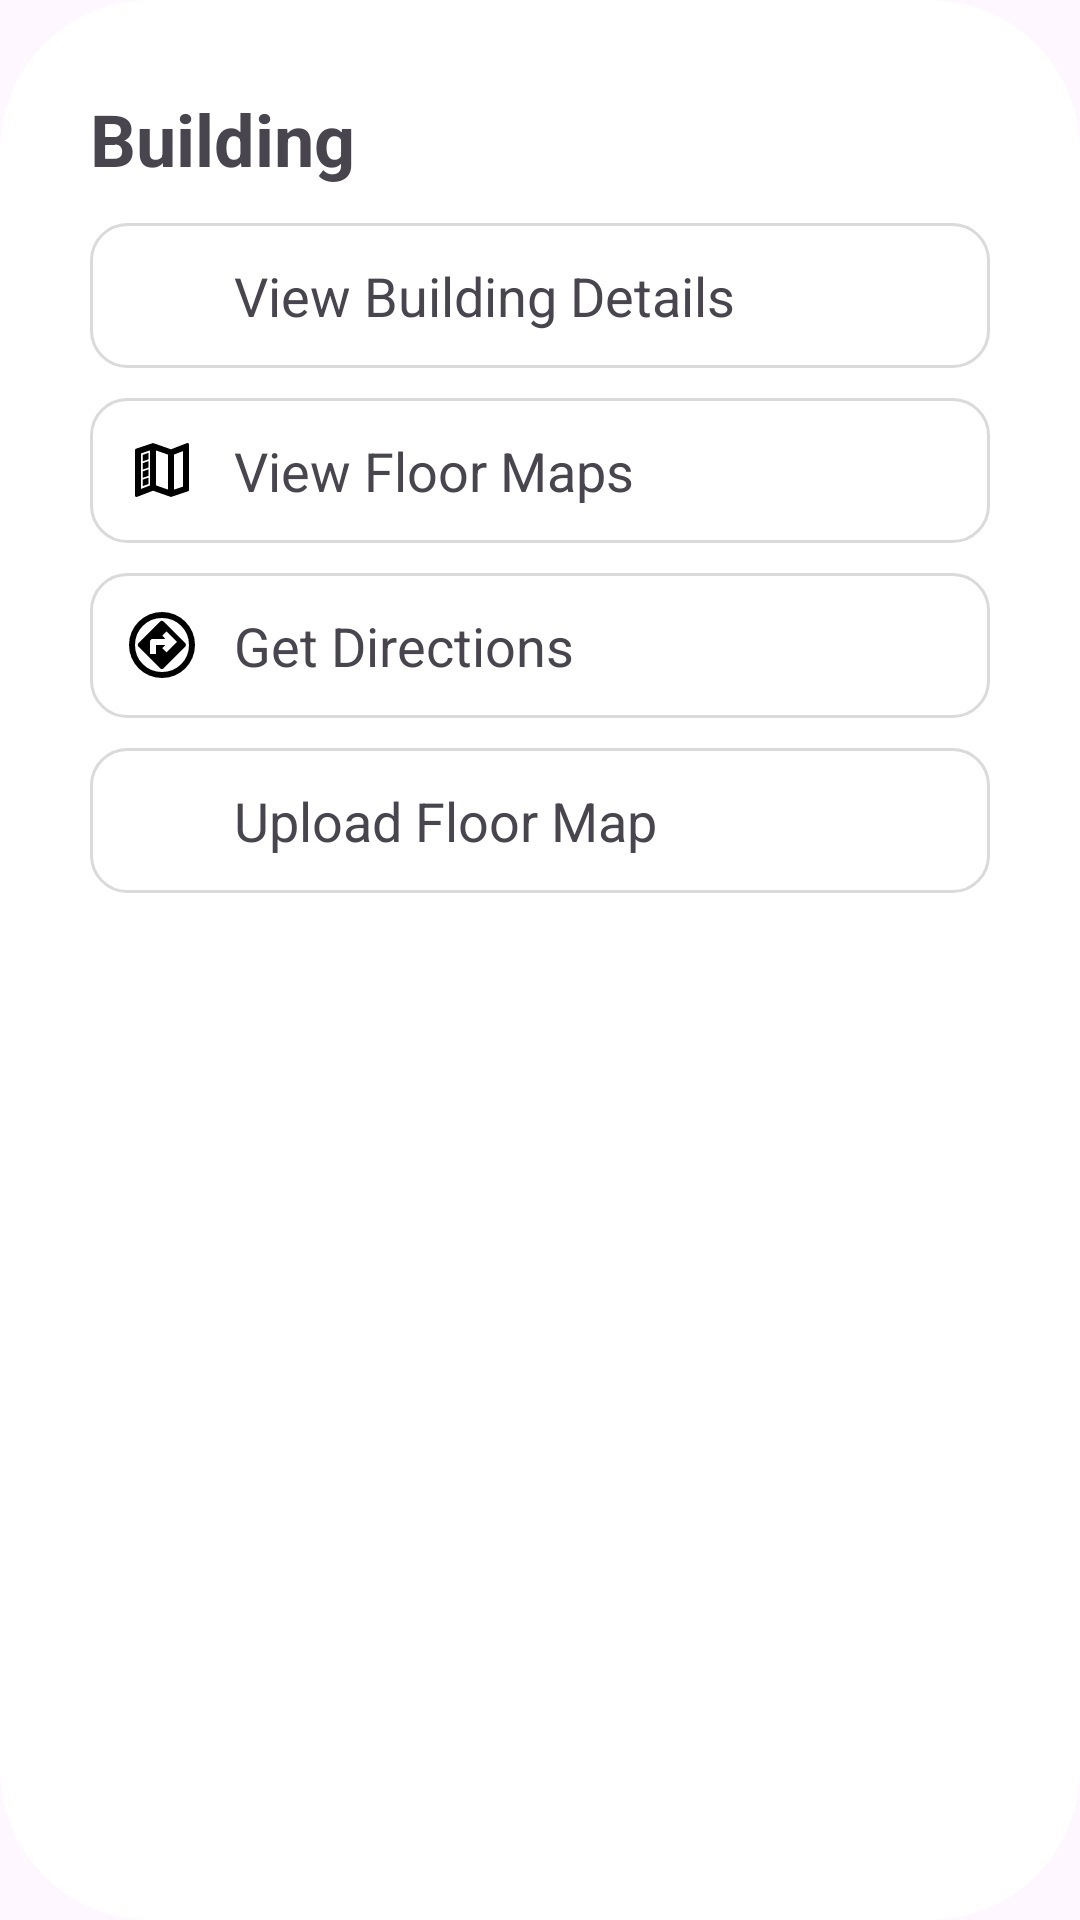

Screen size 1080px x 1920px. Icon name, then its center in pixels as (x,y):
map legend: (162,470)
